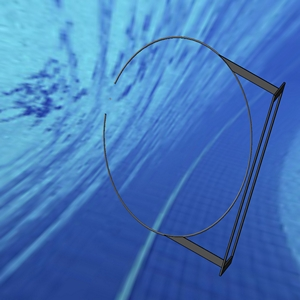circle: (100, 35, 286, 278)
